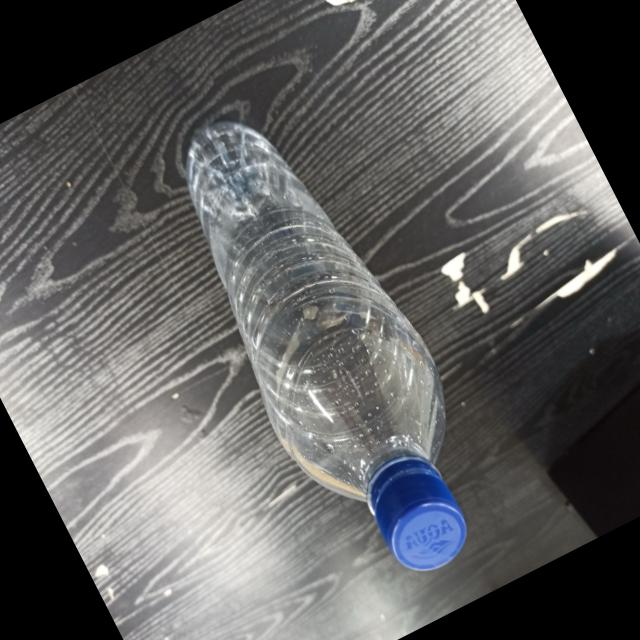BotolPlastik: (135, 81, 520, 608)
